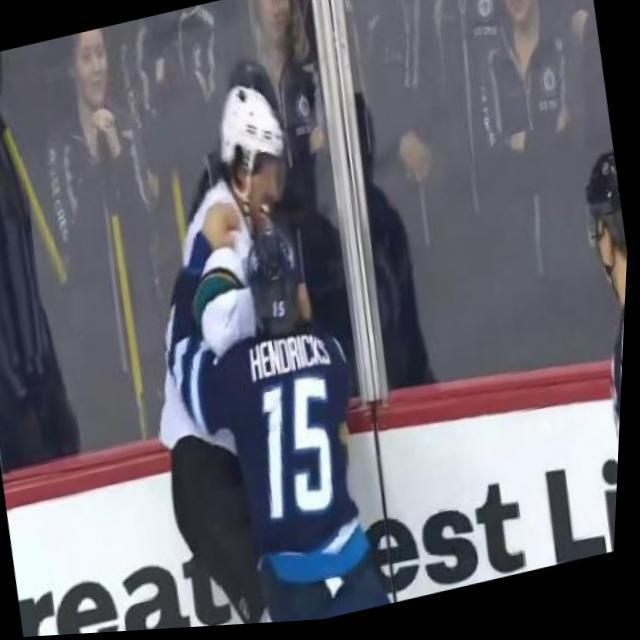fight: (90, 56, 417, 634)
